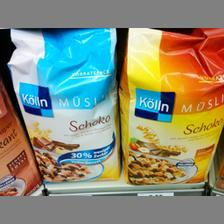Cerealien: (120, 41, 224, 184), (18, 33, 116, 178)
